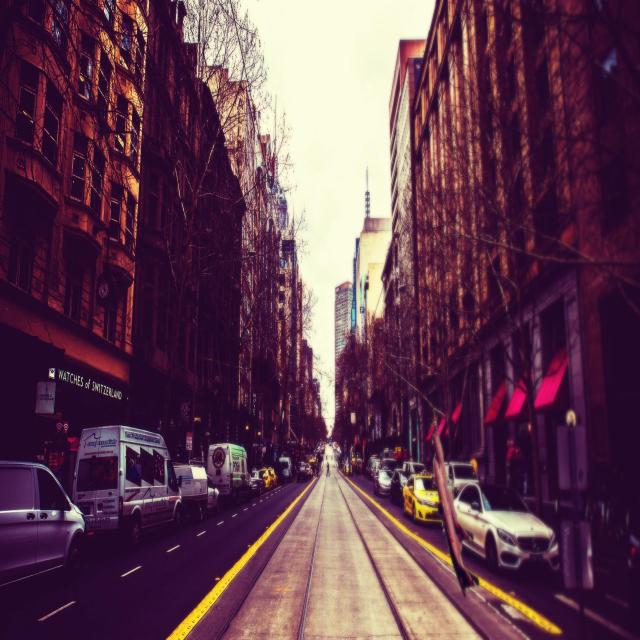airplane: (429, 429, 479, 596)
